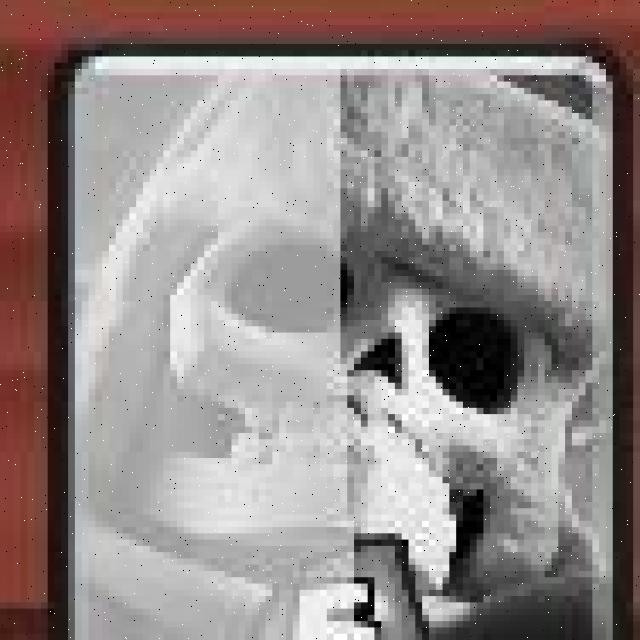Giant_Skeleton: (46, 44, 627, 640)
